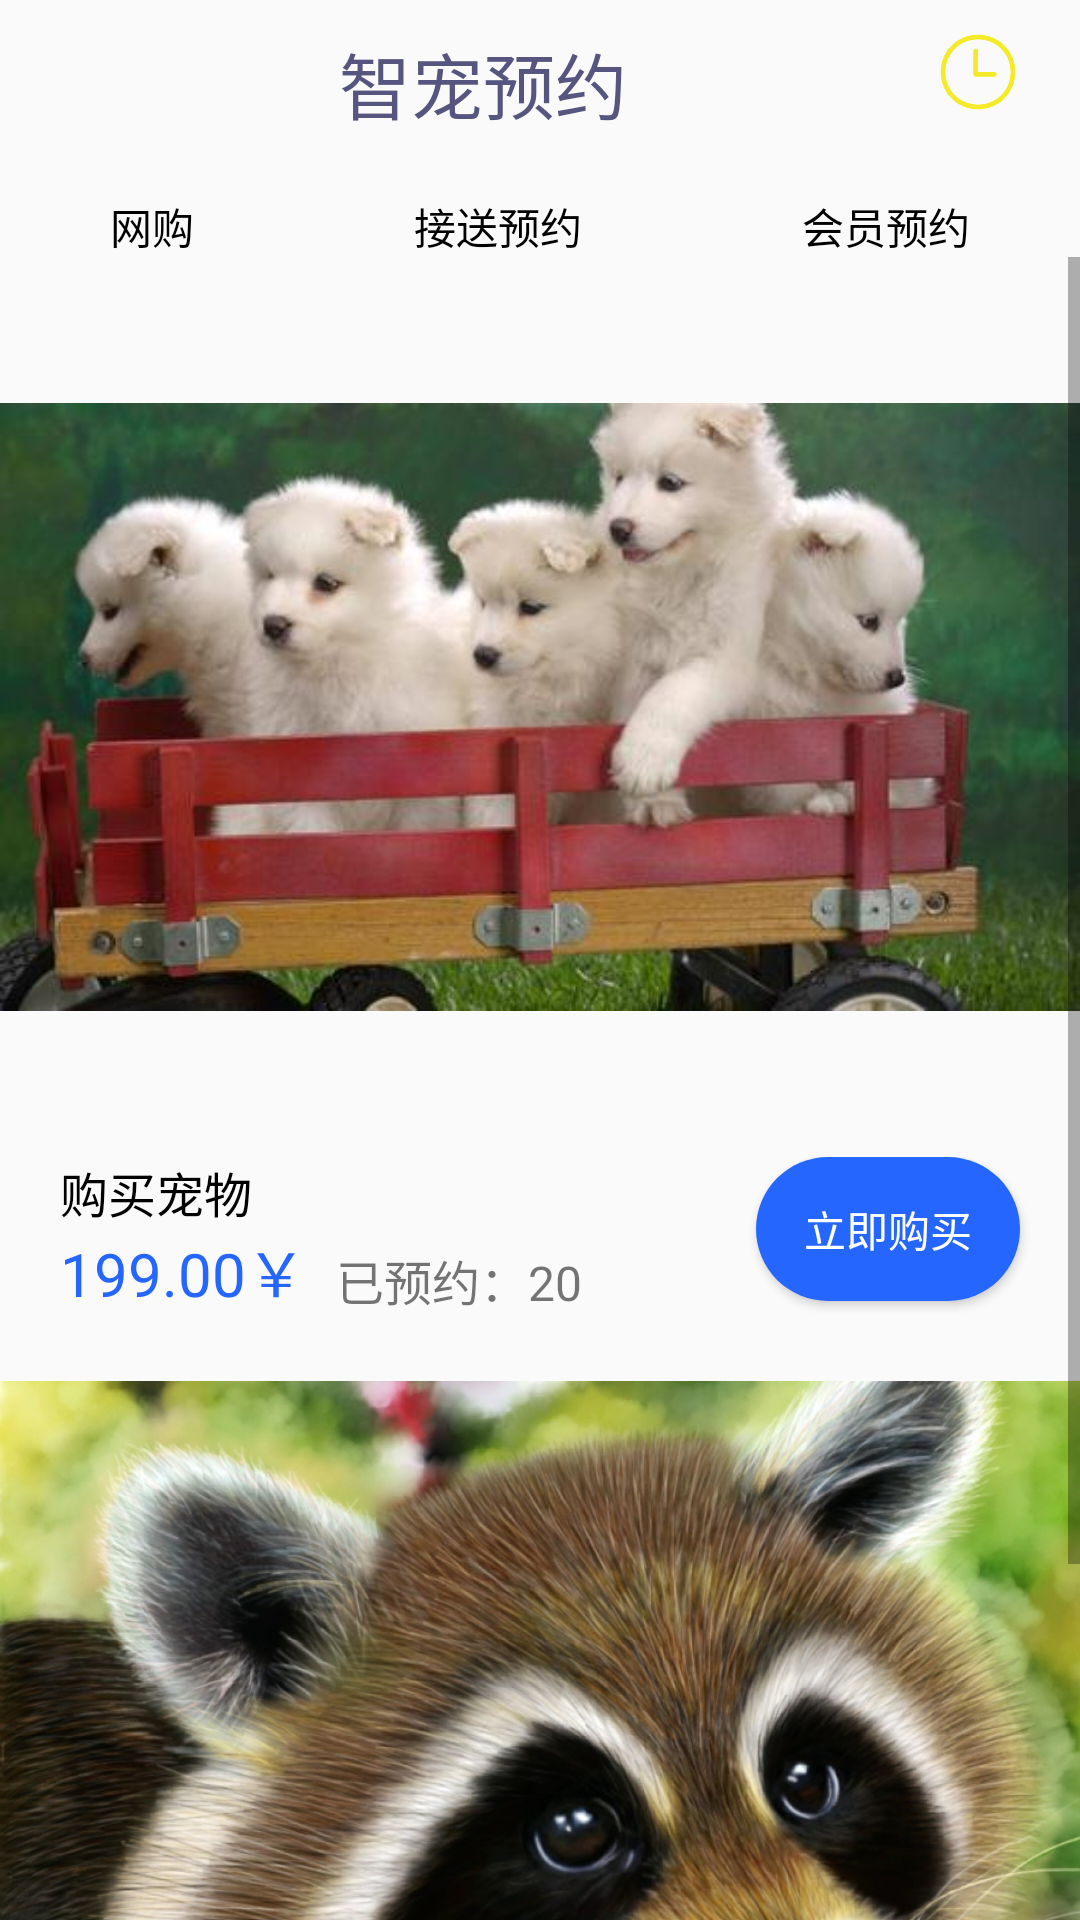

Where to tap for icons on this 1080*1920 app screen, as [x,y]:
appoint: [978,72]
